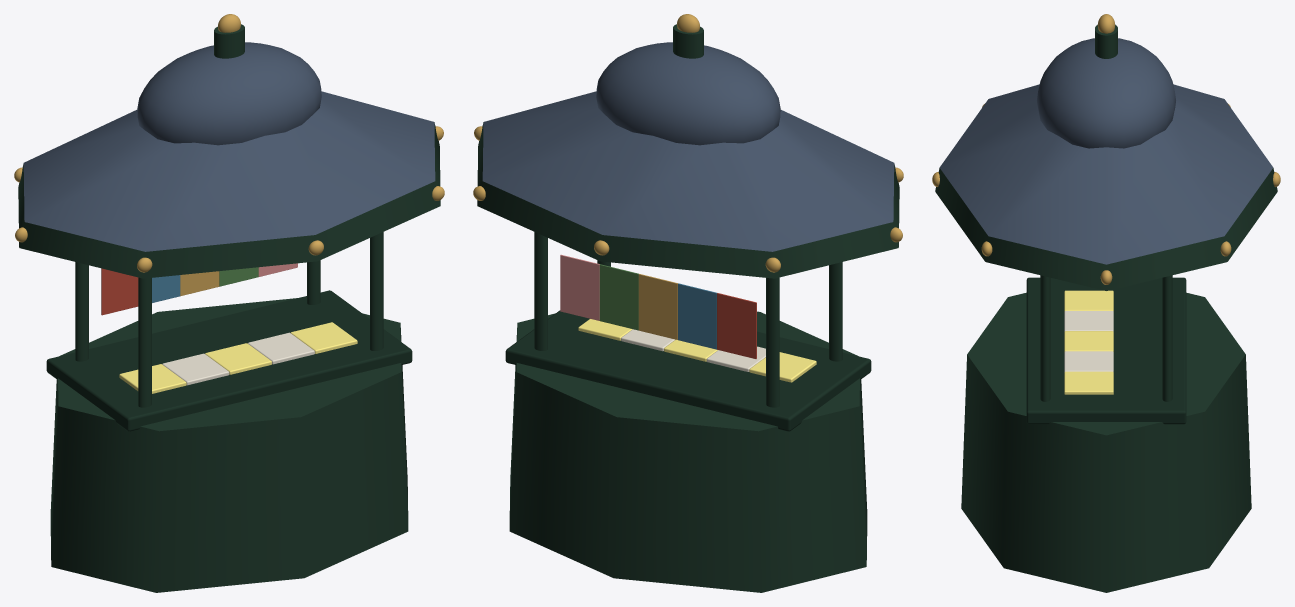
File: wp-kiosque-a-journaux.glb
The picture shows the model from 3 angles, left to right: view 1: azimuth 30°, elevation 25°; view 2: azimuth 150°, elevation 25°; view 3: azimuth 270°, elevation 25°; orthographic projection. The views are drawn at different scales.
Visible parts, largest first — view 1: wp-kiosque-a-journaux; view 2: wp-kiosque-a-journaux; view 3: wp-kiosque-a-journaux.
Part boxes in pixels (left/top/right/bottom): wp-kiosque-a-journaux: left=14, top=14, right=444, bottom=592; wp-kiosque-a-journaux: left=473, top=14, right=903, bottom=592; wp-kiosque-a-journaux: left=932, top=14, right=1280, bottom=592.
Size of the model in its own units: 2.2 by 2.5 by 1.6.
